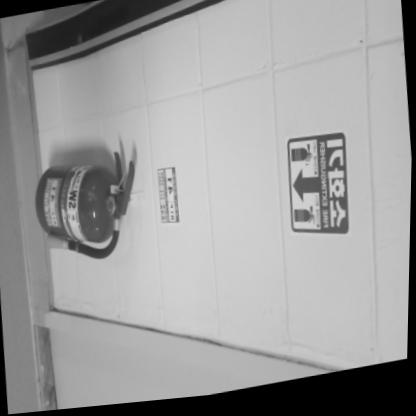FE: (30, 139, 144, 271)
